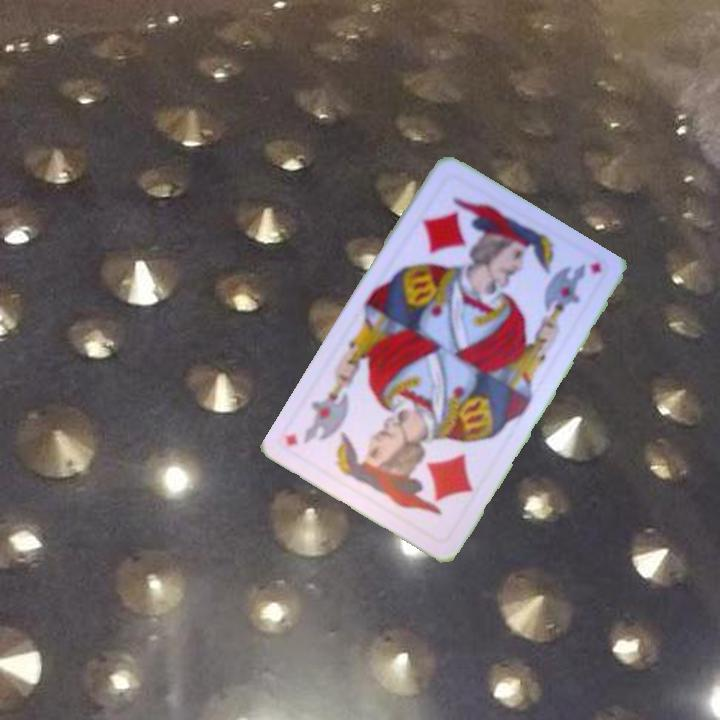d_j.png: (402, 171, 530, 294), (360, 421, 488, 544)
